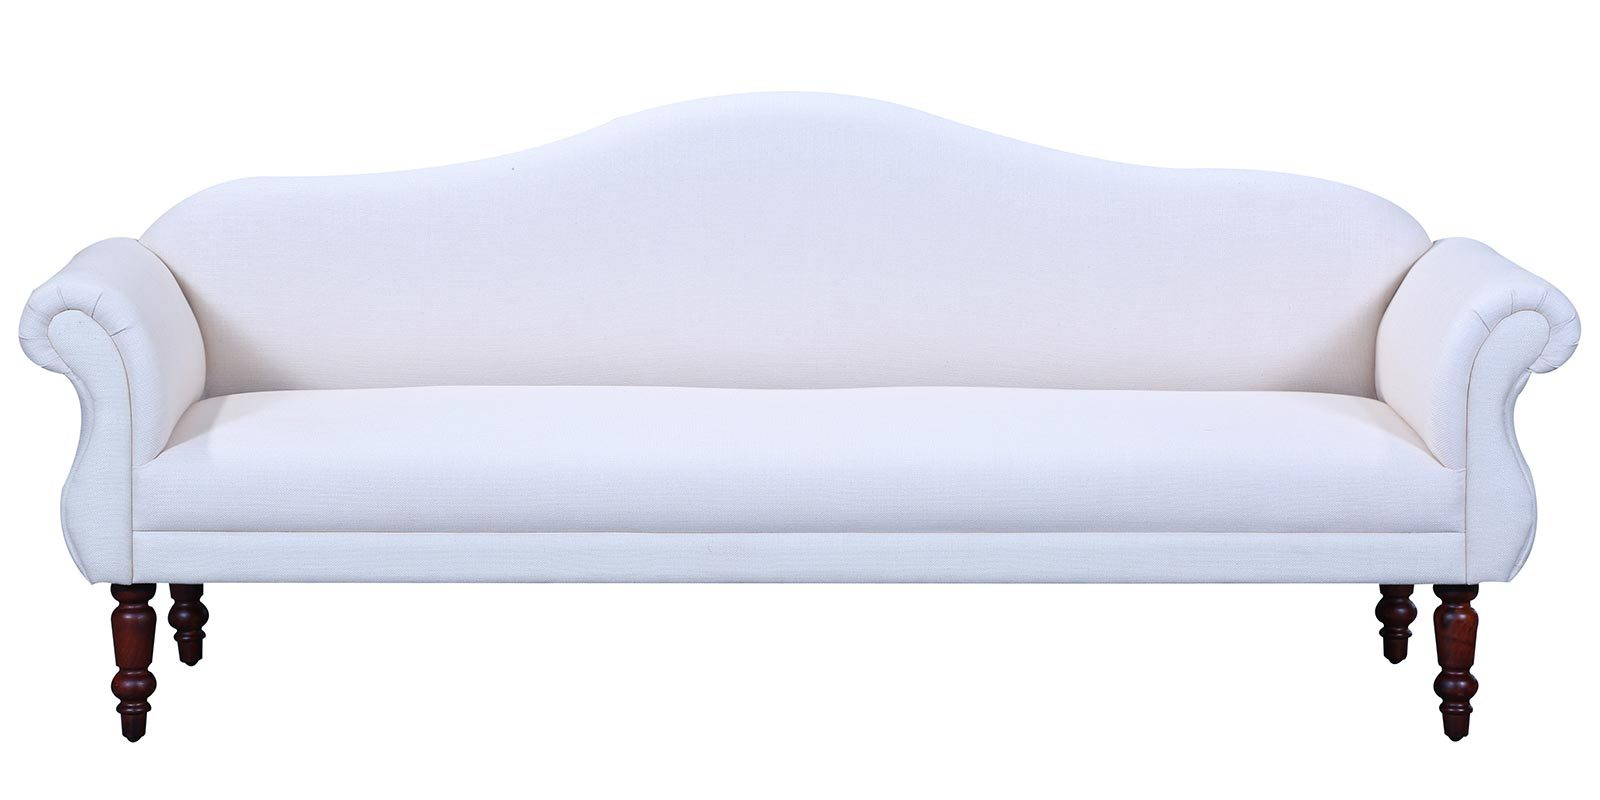Harleston Three Seater Sofa in Honey Oak Finish by Amberville: (19, 79, 1584, 777)
